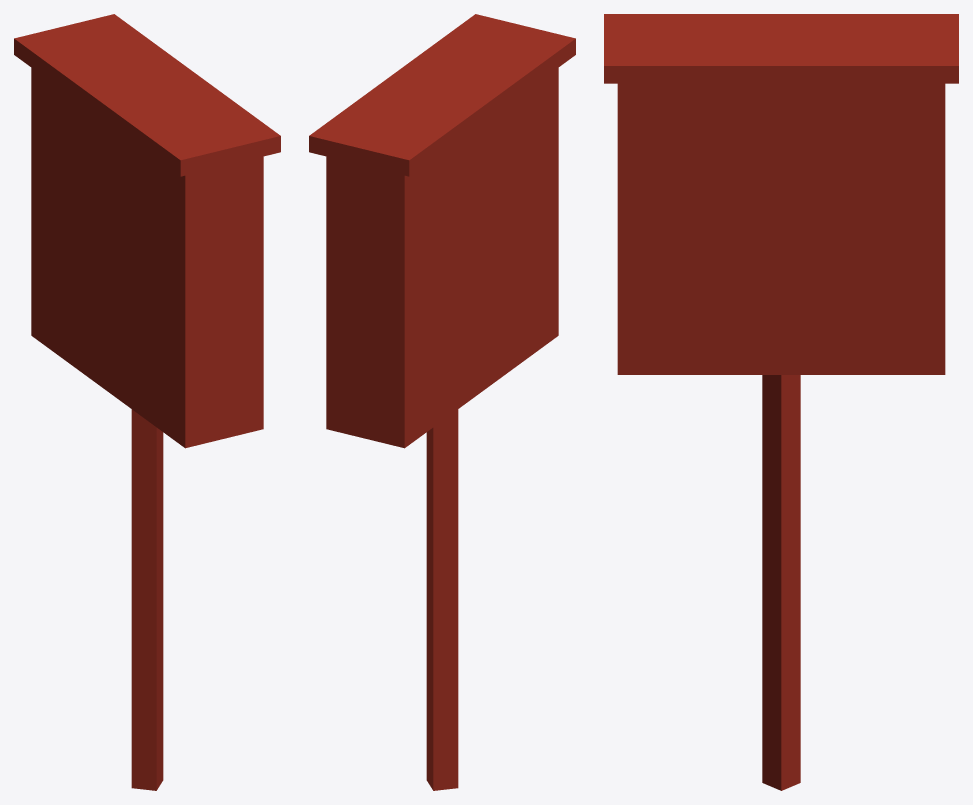
File: SM_Prop_coast_lifebuoy_0_LOD2.glb
3 renders of one model, left to right at view 1: azimuth 30°, elevation 25°; view 2: azimuth 150°, elevation 25°; view 3: azimuth 270°, elevation 25°, orthographic. The views are drawn at different scales.
Visible parts, largest first — view 1: SM_Prop_coast_lifebuoy_0_LOD2; view 2: SM_Prop_coast_lifebuoy_0_LOD2; view 3: SM_Prop_coast_lifebuoy_0_LOD2.
Part boxes in pixels (x1=…): SM_Prop_coast_lifebuoy_0_LOD2: x1=14, y1=14, x2=280, y2=790; SM_Prop_coast_lifebuoy_0_LOD2: x1=309, y1=14, x2=575, y2=790; SM_Prop_coast_lifebuoy_0_LOD2: x1=604, y1=14, x2=958, y2=790.
Size of the model in its own units: 0.32 by 2.12 by 0.92.
